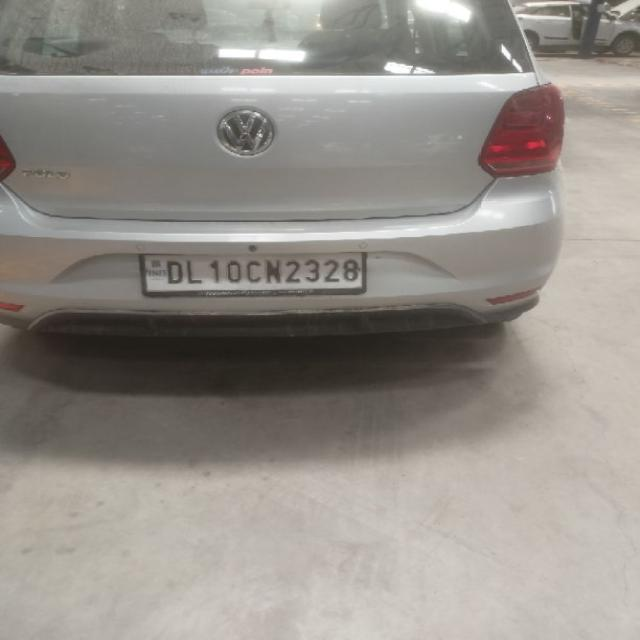license_plate: (138, 250, 367, 297)
